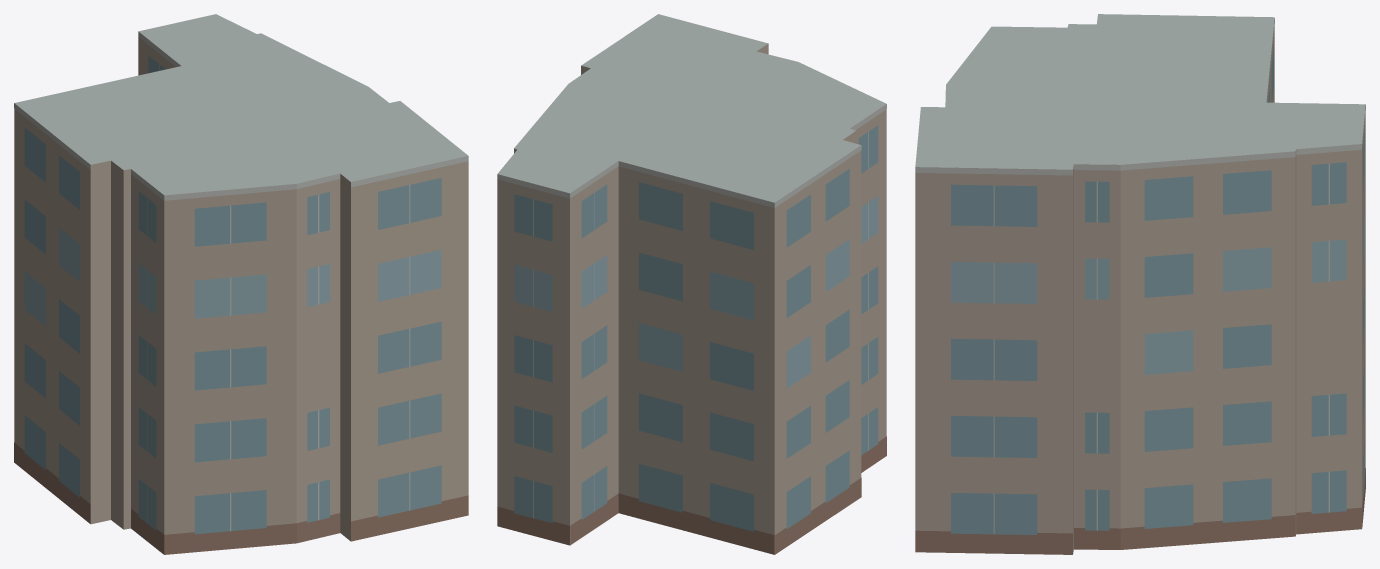
The model's file is survey-upis-32605050.glb.
3 renders of one model, left to right at view 1: azimuth 30°, elevation 25°; view 2: azimuth 150°, elevation 25°; view 3: azimuth 270°, elevation 25°, orthographic. The views are drawn at different scales.
Parts seen in each view (by area): view 1: survey-upis-32605050.tmp; view 2: survey-upis-32605050.tmp; view 3: survey-upis-32605050.tmp.
Boxes of the visible parts, x1,y1,x2,y2 form: survey-upis-32605050.tmp: (14, 14, 468, 554); survey-upis-32605050.tmp: (497, 14, 886, 554); survey-upis-32605050.tmp: (915, 14, 1365, 554).
Size of the model in its own units: 14.19 by 16.35 by 17.34.
